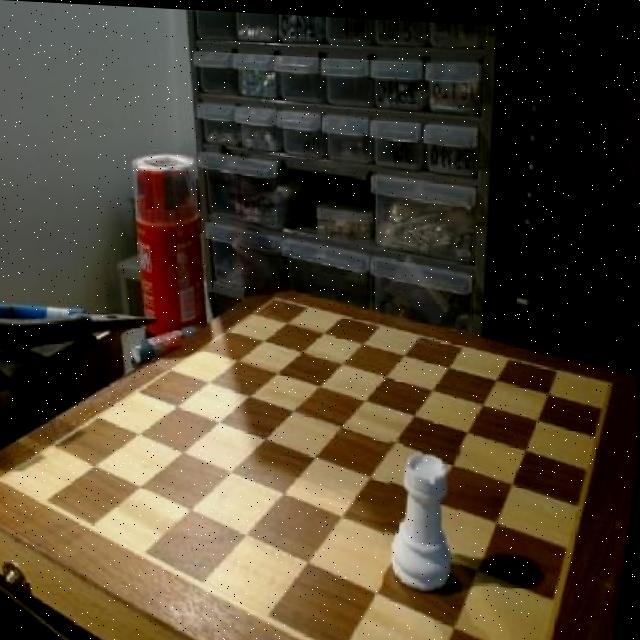white-queen: (383, 436, 459, 593)
